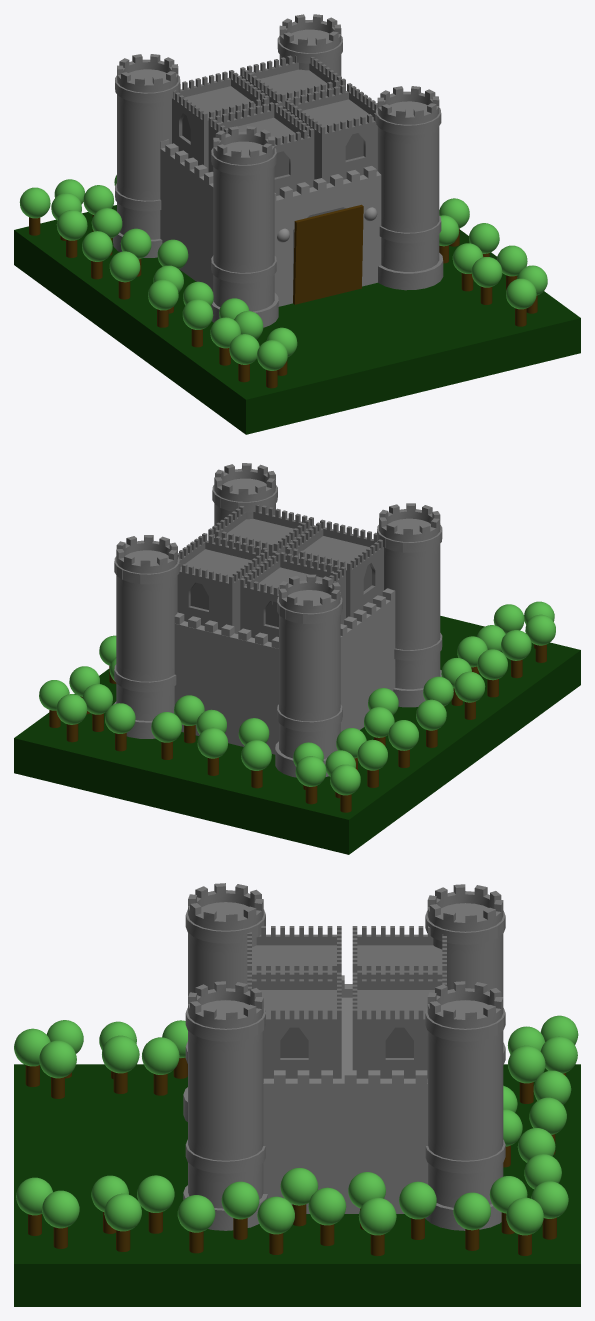
3 views of the same model, one above another, from view 1: azimuth 30°, elevation 25°; view 2: azimuth 150°, elevation 25°; view 3: azimuth 270°, elevation 25° (orthographic). The views are drawn at different scales.
Visible parts, largest first — view 1: Ground, Base_Tower, Pillar2, Pillar1, Pillar4, Tower2, door, Tower_4, Tower1, Tower3, Pillar3, pSphere4 (+24 smaller); view 2: Ground, Pillar4, Pillar3, Pillar1, coverup, Base_Tower, Tower3, Tower1, Tower_4, Tower2, Pillar2, pSphere14 (+28 smaller); view 3: Ground, Base_Tower, Pillar3, Pillar2, Tower2, Tower3, Pillar1, Pillar4, Tower1, Tower_4, pSphere33, pSphere31 (+31 smaller).
Part boxes in pixels (<box>): Ground: <box>14,205,580,434</box>; Base_Tower: <box>160,139,381,306</box>; Pillar2: <box>375,86,443,290</box>; Pillar1: <box>211,126,278,327</box>; Pillar4: <box>113,54,180,257</box>; Tower2: <box>283,83,377,183</box>; door: <box>293,204,363,304</box>; Tower_4: <box>172,70,269,172</box>; Tower1: <box>208,102,314,195</box>; Tower3: <box>240,55,345,106</box>; Pillar3: <box>277,14,342,75</box>; pSphere4: <box>109,251,140,299</box>; Ground: <box>14,616,580,854</box>; Pillar4: <box>275,574,342,777</box>; Pillar3: <box>113,535,179,738</box>; Pillar1: <box>377,503,442,707</box>; coverup: <box>174,623,278,752</box>; Base_Tower: <box>174,588,395,754</box>; Tower3: <box>177,533,270,633</box>; Tower1: <box>285,519,383,617</box>; Tower_4: <box>240,552,345,642</box>; Tower2: <box>208,504,313,556</box>; Pillar2: <box>212,463,277,525</box>; pSphere14: <box>295,756,326,804</box>; Ground: <box>14,1064,580,1306</box>; Base_Tower: <box>263,975,427,1213</box>; Pillar3: <box>425,981,505,1230</box>; Pillar2: <box>183,981,267,1230</box>; Tower2: <box>247,970,341,1078</box>; Tower3: <box>352,970,446,1078</box>; Pillar1: <box>183,883,265,1121</box>; Pillar4: <box>425,884,505,1064</box>; Tower1: <box>247,926,341,979</box>; Tower_4: <box>352,926,446,979</box>; pSphere33: <box>177,1195,215,1253</box>; pSphere31: <box>257,1196,294,1254</box>.
Size of the model in its own units: 100 by 60.4 by 120.
